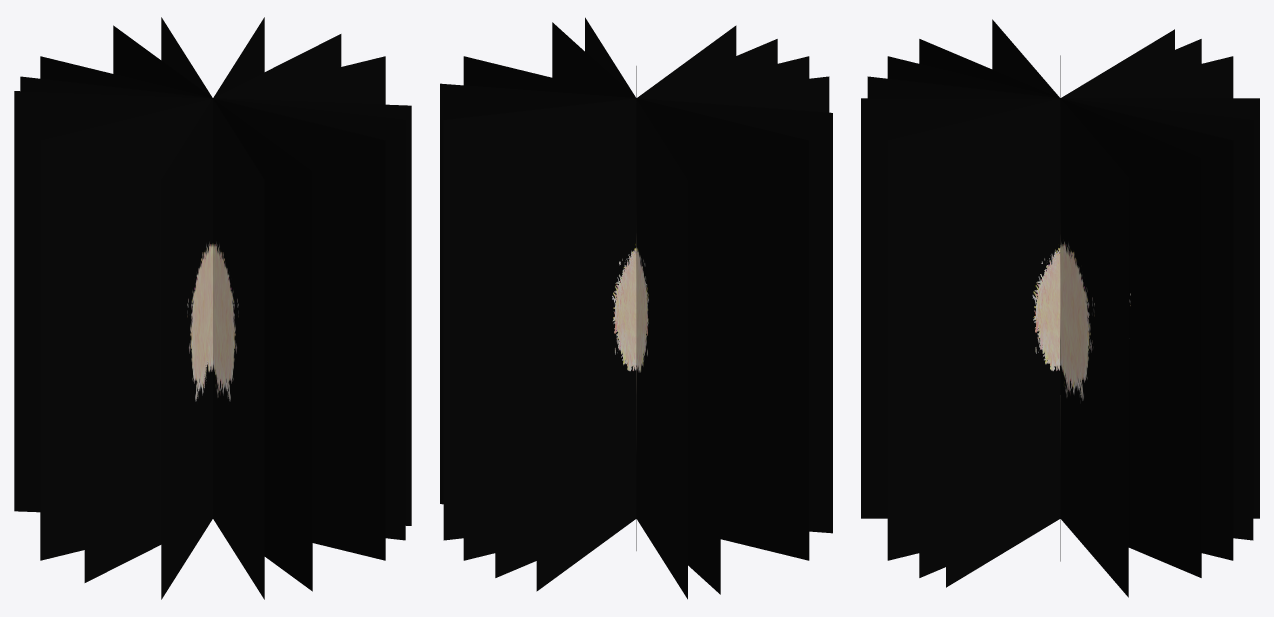
The model's file is tumbleweed.FBX.
3 renders of one model, left to right at view 1: azimuth 30°, elevation 25°; view 2: azimuth 150°, elevation 25°; view 3: azimuth 270°, elevation 25°, orthographic.
Parts seen in each view (by area): view 1: Plane006, Plane017, Plane007, Plane002, Plane005, Plane012, Plane016, Plane010, Plane014, Plane013, Plane008, Plane004 (+3 smaller); view 2: Plane011, Plane003, Plane010, Plane007, Plane006, Plane015, Plane005, Plane012, Plane008, Plane001, Plane002, Plane016; view 3: Plane005, Plane006, Plane008, Plane015, Plane011, Plane014, Plane010, Plane007, Plane017, Plane012, Plane002, Plane004.
Part boxes in pixels (box(x1,y1,x2,y2)): Plane006: box(84, 34, 341, 582); Plane017: box(293, 124, 385, 560); Plane007: box(161, 17, 264, 599); Plane002: box(197, 87, 312, 591); Plane005: box(14, 91, 411, 525); Plane012: box(161, 57, 239, 599); Plane016: box(40, 144, 84, 560); Plane010: box(20, 76, 405, 540); Plane014: box(40, 56, 385, 253); Plane013: box(40, 97, 216, 274); Plane008: box(186, 17, 264, 559); Plane004: box(264, 449, 312, 590); Plane011: box(536, 104, 636, 591); Plane003: box(644, 100, 809, 560); Plane010: box(585, 17, 687, 599); Plane007: box(495, 39, 777, 577); Plane006: box(440, 83, 832, 533); Plane015: box(463, 56, 809, 560); Plane005: box(552, 22, 720, 594); Plane012: box(443, 110, 544, 540); Plane008: box(514, 76, 829, 124); Plane001: box(720, 422, 779, 553); Plane002: box(618, 25, 736, 225); Plane016: box(463, 56, 639, 100); Plane005: box(946, 29, 1174, 587); Plane006: box(992, 19, 1128, 597); Plane008: box(1122, 135, 1201, 577); Plane015: box(887, 56, 1233, 560); Plane011: box(861, 98, 1086, 518); Plane014: box(887, 122, 983, 560); Plane010: box(919, 39, 1201, 577); Plane007: box(867, 76, 1253, 540); Plane017: box(888, 56, 1233, 208); Plane012: box(919, 39, 1171, 213); Plane002: box(1136, 98, 1259, 518); Plane004: box(1065, 98, 1259, 169).
Size of the model in its own units: 13.7 by 15.93 by 13.7.
